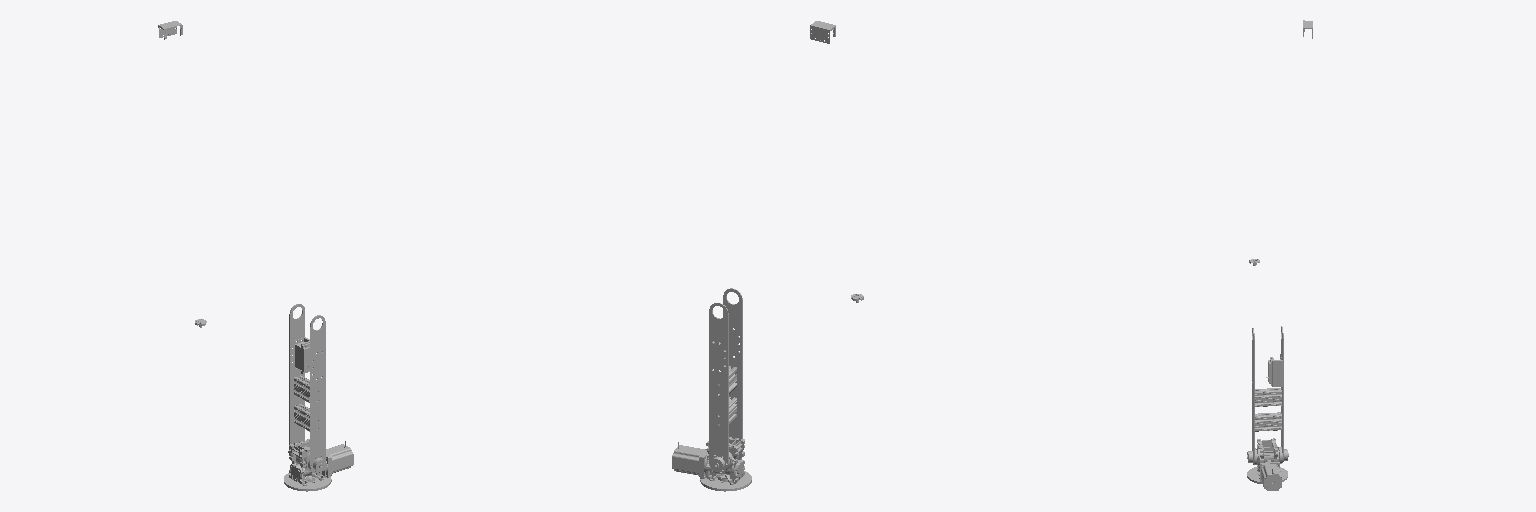
robot.urdf — robot_arm_urdf:
<?xml version="1.0" encoding="utf-8"?>
<!-- This URDF was automatically created by SolidWorks to URDF Exporter! Originally created by Stephen Brawner ([email redacted]) 
     Commit Version: 1.6.0-4-g7f85cfe  Build Version: 1.6.7995.38578
     For more information, please see http://wiki.ros.org/sw_urdf_exporter -->
<robot
  name="robot_arm_urdf">
  
  <link name="world"/>
  
  <link
    name="base_link">
    <inertial>
      <origin
        xyz="0 0 0"
        rpy="0 0 0" />
      <mass
        value="2.27847589927695" />
      <inertia
        ixx="0.00380444742254977"
        ixy="-0.000206188903864419"
        ixz="0.000150989469734131"
        iyy="0.00486443002009746"
        iyz="1.9405372408666E-05"
        izz="0.00720649909693205" />
    </inertial>
    <visual>
      <origin
        xyz="0 0 0"
        rpy="0 0 0" />
      <geometry>
        <mesh
          filename="package://robot_arm_urdf/meshes/base_link.STL" />
      </geometry>
      <material
        name="">
        <color
          rgba="0.752941176470588 0.752941176470588 0.752941176470588 1" />
      </material>
    </visual>
    <collision>
      <origin
        xyz="0 0 0"
        rpy="0 0 0" />
      <geometry>
        <mesh
          filename="package://robot_arm_urdf/meshes/base_link.STL" />
      </geometry>
    </collision>
  </link>
  
  <joint name="base_joint" type="fixed">
  	<parent link="world"/>
  	<child link="base_link"/>
  	<origin rpy="0 0 0" xyz="0.0 0.0 0.0"/>
  </joint>
  
  <link
    name="link_1">
    <inertial>
      <origin
        xyz="0.0306447925880698 0.281344566727743 0.372206162482047"
        rpy="0 0 0" />
      <mass
        value="0.641883744293896" />
      <inertia
        ixx="0.000465537868722206"
        ixy="2.92544171696999E-05"
        ixz="2.03341844754776E-05"
        iyy="0.000617295838132801"
        iyz="-3.98067161000968E-06"
        izz="0.000626361475668464" />
    </inertial>
    <visual>
      <origin
        xyz="0 0 0"
        rpy="0 0 0" />
      <geometry>
        <mesh
          filename="package://robot_arm_urdf/meshes/link_1.STL" />
      </geometry>
      <material
        name="">
        <color
          rgba="0.752941176470588 0.752941176470588 0.752941176470588 1" />
      </material>
    </visual>
    <collision>
      <origin
        xyz="0 0 0"
        rpy="0 0 0" />
      <geometry>
        <mesh
          filename="package://robot_arm_urdf/meshes/link_1.STL" />
      </geometry>
    </collision>
  </link>
  <joint
    name="joint_1"
    type="revolute">
    <origin
      xyz="0.004244 0.37679 -0.077856" 
      rpy="1.5708 0 0" />
    <parent
      link="base_link" />
    <child
      link="link_1" />
    <axis
      xyz="0 1 0" />
    <limit
      lower="-3.142"
      upper="3.142"
      effort="28.35"
      velocity="5.24" />
  </joint>
  <link
    name="link_2">
    <inertial>
      <origin
        xyz="0.00995410909543785 0.173905303533361 0.0632176576099199"
        rpy="0 0 0" />
      <mass
        value="0.394669428659782" />
      <inertia
        ixx="0.00201544140173863"
        ixy="-4.81655903692797E-07"
        ixz="-5.89755045158386E-06"
        iyy="0.00014684046202116"
        iyz="1.0488729854379E-07"
        izz="0.00197252279397421" />
    </inertial>
    <visual>
      <origin
        xyz="0 0 0"
        rpy="0 0 0" />
      <geometry>
        <mesh
          filename="package://robot_arm_urdf/meshes/link_2.STL" />
      </geometry>
      <material
        name="">
        <color
          rgba="0.752941176470588 0.752941176470588 0.752941176470588 1" />
      </material>
    </visual>
    <collision>
      <origin
        xyz="0 0 0"
        rpy="0 0 0" />
      <geometry>
        <mesh
          filename="package://robot_arm_urdf/meshes/link_2.STL" />
      </geometry>
    </collision>
  </link>
  <joint
    name="joint_2"
    type="revolute">
    <origin
      xyz="-0.0129136150732728 0.308337646724069 0.307358400547654"
      rpy="0 0 0" />
    <parent
      link="link_1" />
    <child
      link="link_2" />
    <axis
      xyz="-0.125391445630158 0 -0.992107345685324" />
    <limit
      lower="-1.57"
      upper="1.37"
      effort="28.35"
      velocity="5.24" />
  </joint>
  <link
    name="link_3">
    <inertial>
      <origin
        xyz="-0.101730833124941 -0.00013569897650012 0.112485387666801"
        rpy="0 0 0" />
      <mass
        value="0.259256412516919" />
      <inertia
        ixx="8.82055214106673E-05"
        ixy="1.91288092550191E-08"
        ixz="0.000147246406091982"
        iyy="0.0012487740196317"
        iyz="5.73285944186787E-08"
        izz="0.0012348363247349" />
    </inertial>
    <visual>
      <origin
        xyz="0 0 0"
        rpy="0 0 0" />
      <geometry>
        <mesh
          filename="package://robot_arm_urdf/meshes/link_3.STL" />
      </geometry>
      <material
        name="">
        <color
          rgba="0.752941176470588 0.752941176470588 0.752941176470588 1" />
      </material>
    </visual>
    <collision>
      <origin
        xyz="0 0 0"
        rpy="0 0 0" />
      <geometry>
        <mesh
          filename="package://robot_arm_urdf/meshes/link_3.STL" />
      </geometry>
    </collision>
  </link>
  <joint
    name="joint_3"
    type="revolute">
    <origin
      xyz="-0.0040937973882068 0.406399999999999 -0.0323904588559681"
      rpy="0 0 0" />
    <parent
      link="link_2" />
    <child
      link="link_3" />
    <axis
      xyz="-0.125391445630158 0 -0.992107345685324" />
    <limit
      lower="-1"
      upper="3.14"
      effort="7.85"
      velocity="6.54" />
  </joint>
  <link
    name="link_4">
    <inertial>
      <origin
        xyz="0.00956075507296156 0.028864624504545 0.0735538720173586"
        rpy="0 0 0" />
      <mass
        value="0.18731544221453" />
      <inertia
        ixx="0.000131172951702039"
        ixy="4.79991337558464E-09"
        ixz="-3.82564484824128E-06"
        iyy="0.000133438325492828"
        iyz="1.72597973055121E-08"
        izz="0.000105908438964448" />
    </inertial>
    <visual>
      <origin
        xyz="0 0 0"
        rpy="0 0 0" />
      <geometry>
        <mesh
          filename="package://robot_arm_urdf/meshes/link_4.STL" />
      </geometry>
      <material
        name="">
        <color
          rgba="0.752941176470588 0.752941176470588 0.752941176470588 1" />
      </material>
    </visual>
    <collision>
      <origin
        xyz="0 0 0"
        rpy="0 0 0" />
      <geometry>
        <mesh
          filename="package://robot_arm_urdf/meshes/link_4.STL" />
      </geometry>
    </collision>
  </link>
  <joint
    name="joint_4"
    type="revolute">
    <origin
      xyz="-0.344415980373364 0 0.0713450468234001"
      rpy="0 0 0" />
    <parent
      link="link_3" />
    <child
      link="link_4" />
    <axis
      xyz="-0.125391445630158 0 -0.992107345685324" />
    <limit
      lower="-3.14"
      upper="0"
      effort="2.45"
      velocity="8.08" />
  </joint>
  <link
    name="link_5">
    <inertial>
      <origin
        xyz="-4.27844132344646E-09 0.013259123530174 2.67440514178929E-09"
        rpy="0 0 0" />
      <mass
        value="0.00352439273827263" />
      <inertia
        ixx="2.30460116989414E-07"
        ixy="4.50680847413183E-13"
        ixz="4.85236076885767E-12"
        iyy="3.99508652333463E-07"
        iyz="5.01163318609839E-13"
        izz="2.30445970855517E-07" />
    </inertial>
    <visual>
      <origin
        xyz="0 0 0"
        rpy="0 0 0" />
      <geometry>
        <mesh
          filename="package://robot_arm_urdf/meshes/link_5.STL" />
      </geometry>
      <material
        name="">
        <color
          rgba="0.752941176470588 0.752941176470588 0.752941176470588 1" />
      </material>
    </visual>
    <collision>
      <origin
        xyz="0 0 0"
        rpy="0 0 0" />
      <geometry>
        <mesh
          filename="package://robot_arm_urdf/meshes/link_5.STL" />
      </geometry>
    </collision>
  </link>
  <joint
    name="joint_5"
    type="revolute">
    <origin
      xyz="0.00886960764909822 0.0715224872569122 0.0701770591910485"
      rpy="0 0 0" />
    <parent
      link="link_4" />
    <child
      link="link_5" />
    <axis
      xyz="0 -1 0" />
    <limit
      lower="-3.14"
      upper="3.14"
      effort="2.45"
      velocity="8.08" />
  </joint>
  
  <transmission name="link_1_trans">
  	<type>transmission_interface/SimpleTransmission</type>
  	<joint name="joint_1">
  		<hardwareInterface>hardware_interface/PositionJointInterface</hardwareInterface>
  	</joint>
  	<actuator name="link_1_motor">
  		<hardwareInterface>hardware_interface/PositionJointInterface</hardwareInterface>
  		<mechanicalReduction>1</mechanicalReduction>
  	</actuator>
  </transmission>
  
  <transmission name="link_2_trans">
  	<type>transmission_interface/SimpleTransmission</type>
  	<joint name="joint_2">
  		<hardwareInterface>hardware_interface/PositionJointInterface</hardwareInterface>
  	</joint>
  	<actuator name="link_2_motor">
  		<hardwareInterface>hardware_interface/PositionJointInterface</hardwareInterface>
  		<mechanicalReduction>1</mechanicalReduction>
  	</actuator>
  </transmission>
  
  <transmission name="link_3_trans">
  	<type>transmission_interface/SimpleTransmission</type>
  	<joint name="joint_3">
  		<hardwareInterface>hardware_interface/PositionJointInterface</hardwareInterface>
  	</joint>
  	<actuator name="link_3_motor">
  		<hardwareInterface>hardware_interface/PositionJointInterface</hardwareInterface>
  		<mechanicalReduction>1</mechanicalReduction>
  	</actuator>
  </transmission>
  
  <transmission name="link_4_trans">
  	<type>transmission_interface/SimpleTransmission</type>
  	<joint name="joint_4">
  		<hardwareInterface>hardware_interface/PositionJointInterface</hardwareInterface>
  	</joint>
  	<actuator name="link_4_motor">
  		<hardwareInterface>hardware_interface/PositionJointInterface</hardwareInterface>
  		<mechanicalReduction>1</mechanicalReduction>
  	</actuator>
  </transmission>
  
  <transmission name="link_5_trans">
  	<type>transmission_interface/SimpleTransmission</type>
  	<joint name="joint_5">
  		<hardwareInterface>hardware_interface/PositionJointInterface</hardwareInterface>
  	</joint>
  	<actuator name="link_5_motor">
  		<hardwareInterface>hardware_interface/PositionJointInterface</hardwareInterface>
  		<mechanicalReduction>1</mechanicalReduction>
  	</actuator>
  </transmission>
  
  <gazebo>
  	<plugin name="control" filename="libgazebo_ros_control.so">
  		<robotNamespace>/</robotNamespace>
  	</plugin>
  </gazebo>
  
  <gazebo reference="link_1">
  	<selfCollide>true</selfCollide>
  </gazebo>
  
  <gazebo reference="link_2">
  	<selfCollide>true</selfCollide>
  </gazebo>
  
  <gazebo reference="link_3">
  	<selfCollide>true</selfCollide>
  </gazebo>
  
  <gazebo reference="link_4">
  	<selfCollide>true</selfCollide>
  </gazebo>
  
  <gazebo reference="link_5">
  	<selfCollide>true</selfCollide>
  </gazebo>
  
</robot>

--- Render facts (derived) ---
Views: 3 orthographic renders of the robot side by side, from view 1: azimuth 30°, elevation 25°; view 2: azimuth 150°, elevation 25°; view 3: azimuth 270°, elevation 25°.
Robot: robot_arm_urdf — 7 links, 6 joints (5 revolute, 1 fixed); root link world; default pose: every joint at zero.
Visible links, largest first — view 1: link_2, link_1; view 2: link_2, link_1; view 3: link_2, link_1.
Boxes of the visible links, left/top/right/bottom form: link_2: left=288, top=304, right=326, bottom=472; link_1: left=284, top=439, right=353, bottom=491; link_2: left=709, top=288, right=742, bottom=471; link_1: left=672, top=437, right=751, bottom=491; link_2: left=1247, top=326, right=1288, bottom=464; link_1: left=1247, top=438, right=1287, bottom=490.
Size in the robot's own frame: 0.5075 by 0.2037 by 1.37 metres.
Meshes: 6 distinct files referenced, 4 mesh visuals loaded (4 binary STL); not drawn: 1 (reference not matched to a file when rendering), 1 (file found but could not be loaded).
